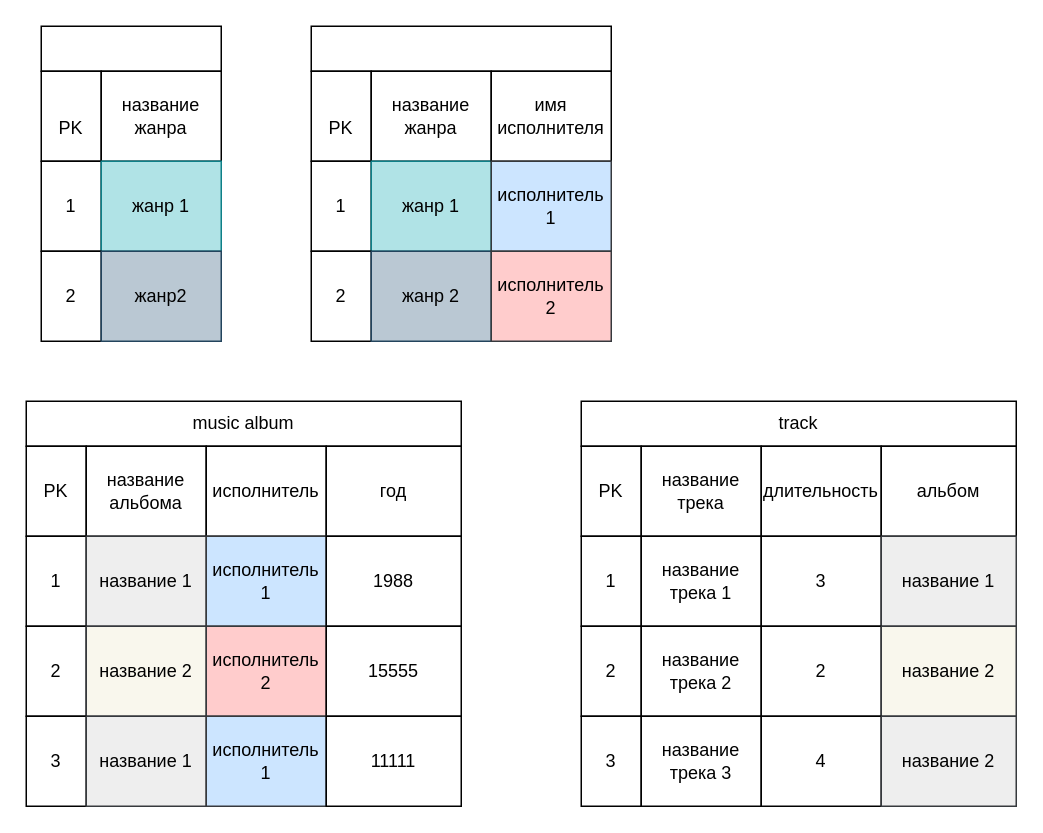
Image size: 1043x833. Some labels were removed from this diagram. The shapes that lost their labels are listed below. From the top down, each one's centre as x and y in pixels, then its label:
At [130,48]: "genre of music".
At [460,48]: "executor".
